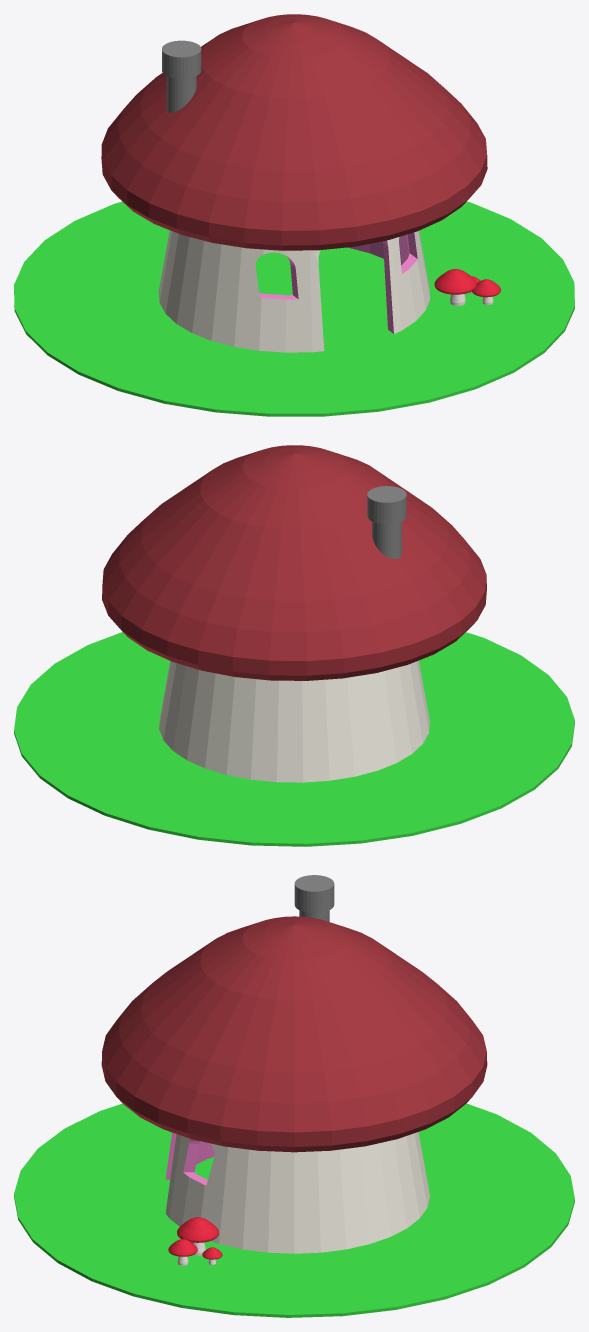
File: hut4.glb
The picture shows the model from 3 angles, top to bottom: view 1: azimuth 30°, elevation 25°; view 2: azimuth 150°, elevation 25°; view 3: azimuth 270°, elevation 25°; orthographic projection.
Visible parts, largest first — view 1: Hut; view 2: Hut; view 3: Hut.
Part boxes in pixels (bbox=[...]): Hut: bbox=[14, 14, 574, 416]; Hut: bbox=[14, 445, 574, 846]; Hut: bbox=[14, 875, 574, 1317].
Size of the model in its own units: 14 by 7.55 by 14.
